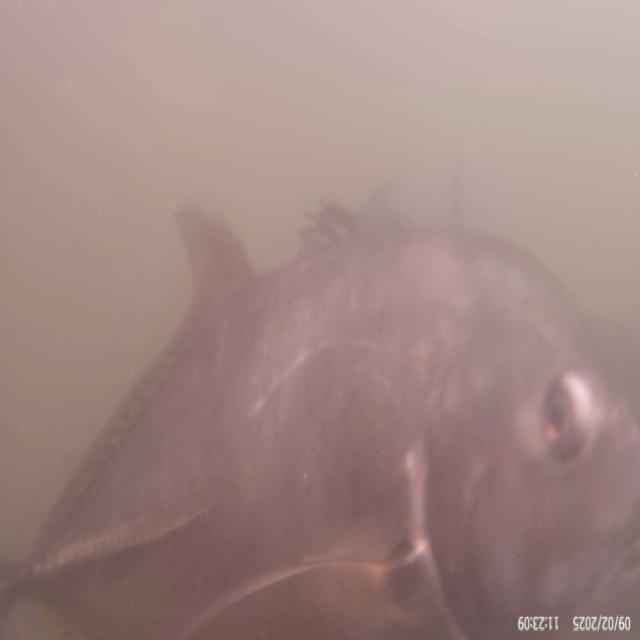ikan: (3, 183, 638, 636)
